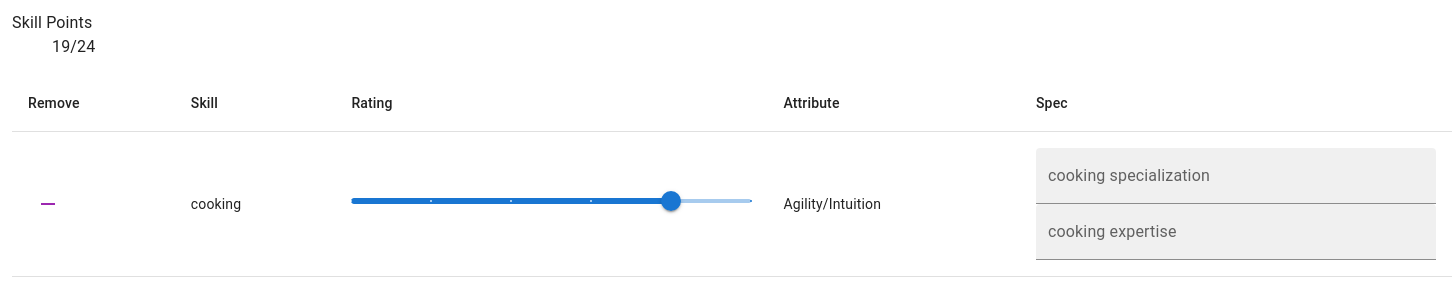
Test: <RunnerSkillTable/> › specialization › should not error out when a skill is not listed in the skills.json
Click the dropdown labelled "cooking specialization" at (1220, 186), box [1044,167,1397,204]
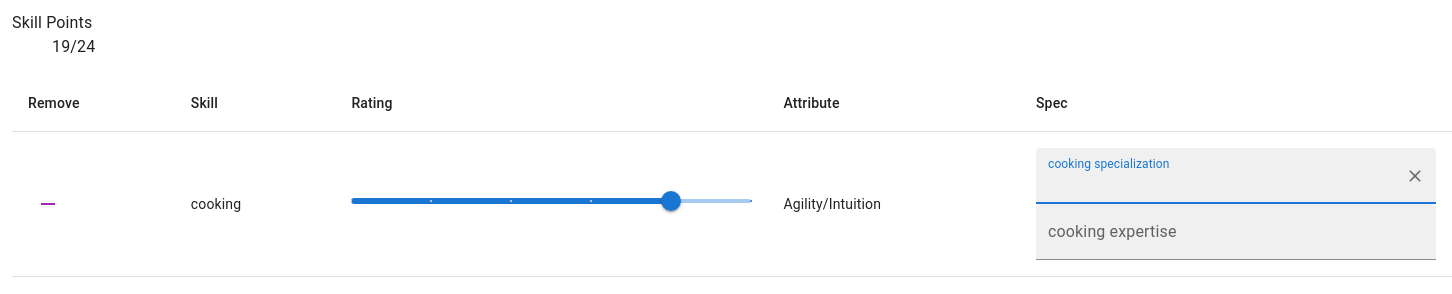
Type keys "japanese cuisine{enter}"
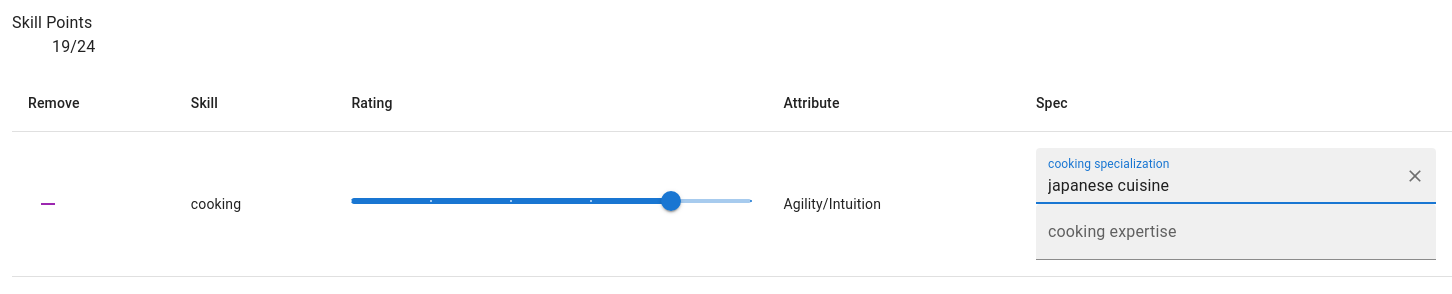
Check: the dropdown labelled "cooking specialization" holds "japanese cuisine", box [1044,167,1397,204]
